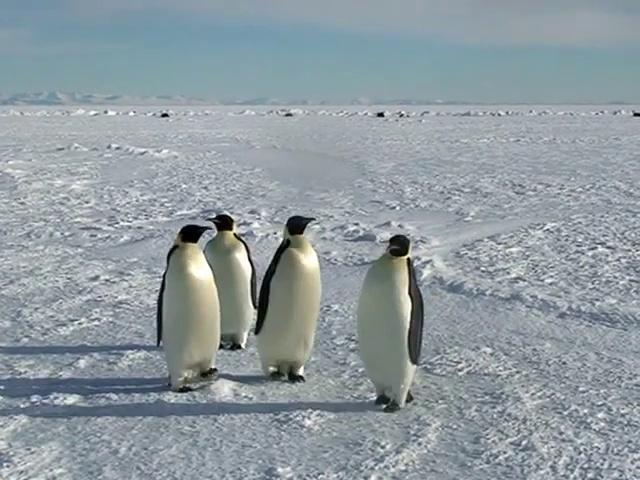animal: (358, 235, 423, 411)
